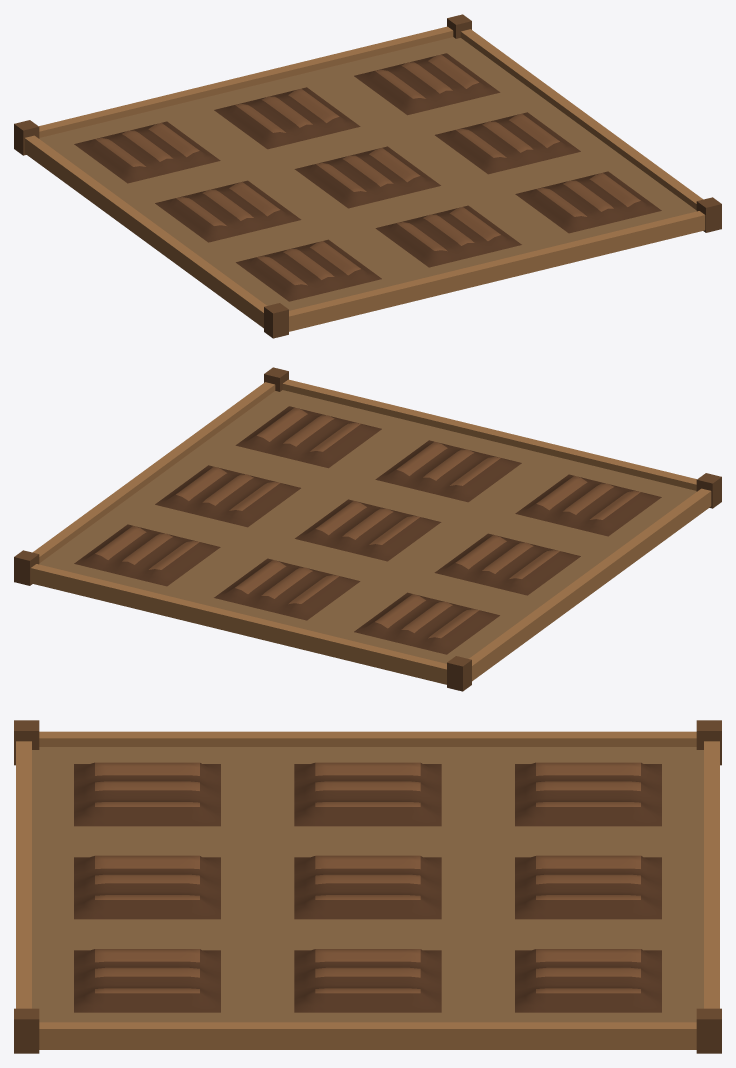
File: garden.glb
3 renders of one model, top to bottom at view 1: azimuth 30°, elevation 25°; view 2: azimuth 150°, elevation 25°; view 3: azimuth 270°, elevation 25°, orthographic. The views are drawn at different scales.
Visible parts, largest first — view 1: Garden; view 2: Garden; view 3: Garden.
Part boxes in pixels (x1,y1,x2,y2): Garden: (14,14,721,338); Garden: (14,367,721,691); Garden: (14,720,721,1053).
Size of the model in its own units: 6.74 by 0.36 by 6.74.
